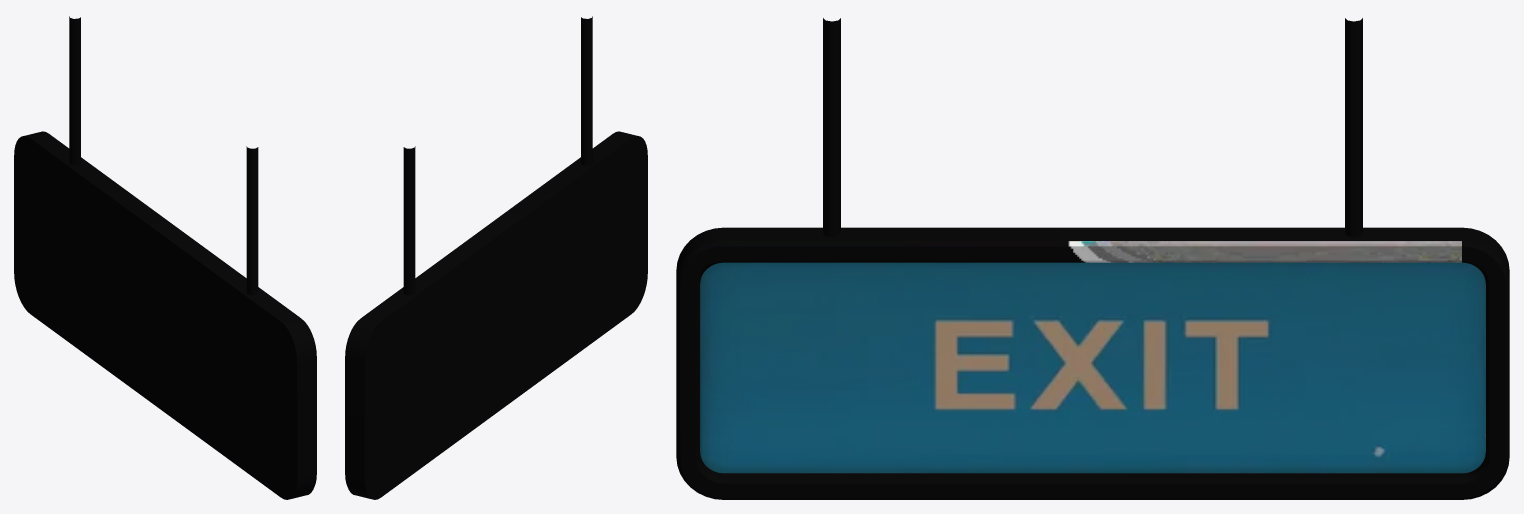
The picture shows the model from 3 angles, left to right: view 1: azimuth 30°, elevation 25°; view 2: azimuth 150°, elevation 25°; view 3: azimuth 270°, elevation 25°; orthographic projection. The views are drawn at different scales.
Parts seen in each view (by area): view 1: body0_model0_lod0_mesh0; view 2: body0_model0_lod0_mesh0; view 3: body0_model0_lod0_mesh0.
Part boxes in pixels (x1,y1,x2,y2): body0_model0_lod0_mesh0: (14,16,316,499); body0_model0_lod0_mesh0: (345,16,647,499); body0_model0_lod0_mesh0: (676,18,1509,499).
Bounding box in the file's own units: 3 × 44 × 70.
Materials: 1 (1 with a texture image).
